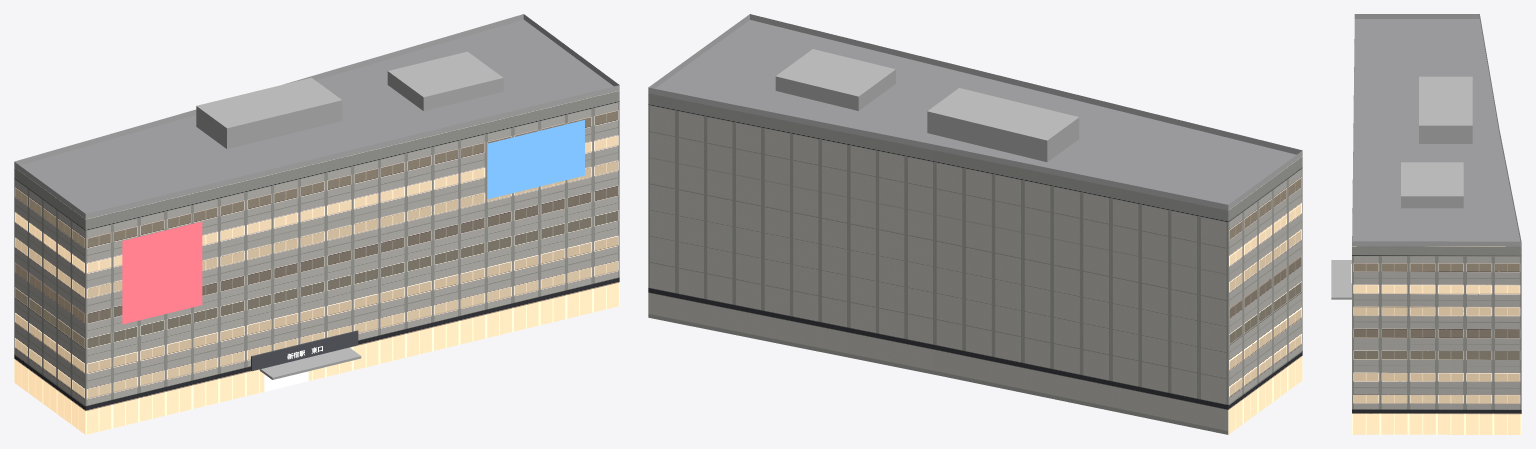
The model's file is shinjuku_station.glb.
3 renders of one model, left to right at view 1: azimuth 30°, elevation 25°; view 2: azimuth 150°, elevation 25°; view 3: azimuth 270°, elevation 25°, orthographic. The views are drawn at different scales.
Parts seen in each view (by area): view 1: SJ_Station; view 2: SJ_Station; view 3: SJ_Station.
Boxes of the visible parts, <box> form: SJ_Station: <box>14,14,619,434</box>; SJ_Station: <box>648,14,1302,434</box>; SJ_Station: <box>1331,14,1521,434</box>.
Size of the model in its own units: 120 by 50.9 by 42.4.
9 materials, 2 textured.
